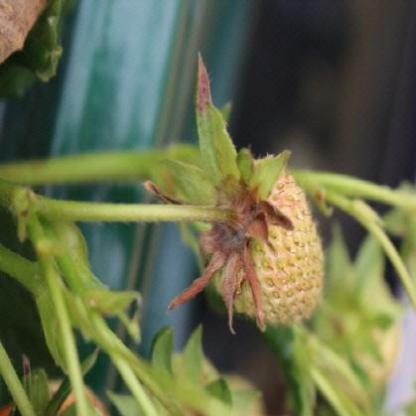Strawberry_Gray_Mold: (142, 174, 296, 334)
